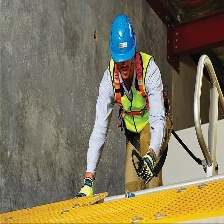helmet: (106, 12, 137, 64)
person: (85, 14, 174, 196)
vest: (109, 60, 152, 135)
